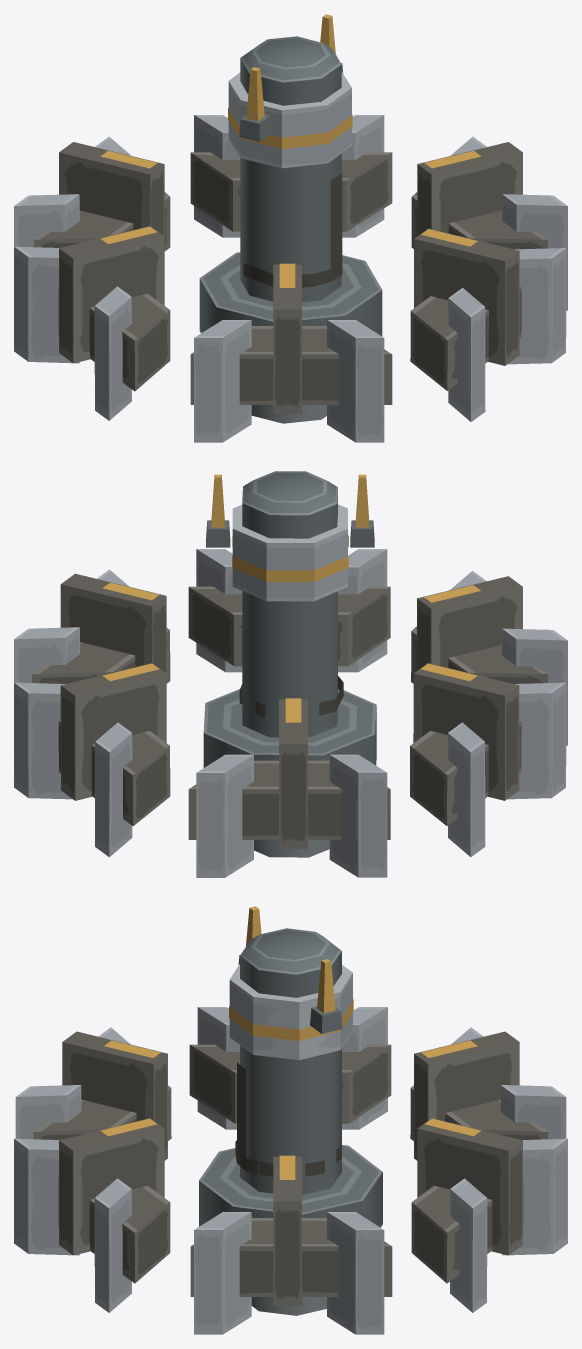
File: barricade3.FBX
3 views of the same model, one above another, from view 1: azimuth 30°, elevation 25°; view 2: azimuth 150°, elevation 25°; view 3: azimuth 270°, elevation 25° (orthographic).
Visible parts, largest first — view 1: playerbuilding_Barricade_lv3, a; view 2: playerbuilding_Barricade_lv3, a; view 3: playerbuilding_Barricade_lv3, a.
Boxes of the visible parts, bbox=[...] form: playerbuilding_Barricade_lv3: bbox=[14, 36, 567, 442]; a: bbox=[228, 14, 352, 168]; playerbuilding_Barricade_lv3: bbox=[14, 471, 567, 877]; a: bbox=[206, 474, 374, 601]; playerbuilding_Barricade_lv3: bbox=[14, 928, 567, 1334]; a: bbox=[229, 906, 353, 1060].
Bounding box in the file's own units: 151 × 158 × 113.
